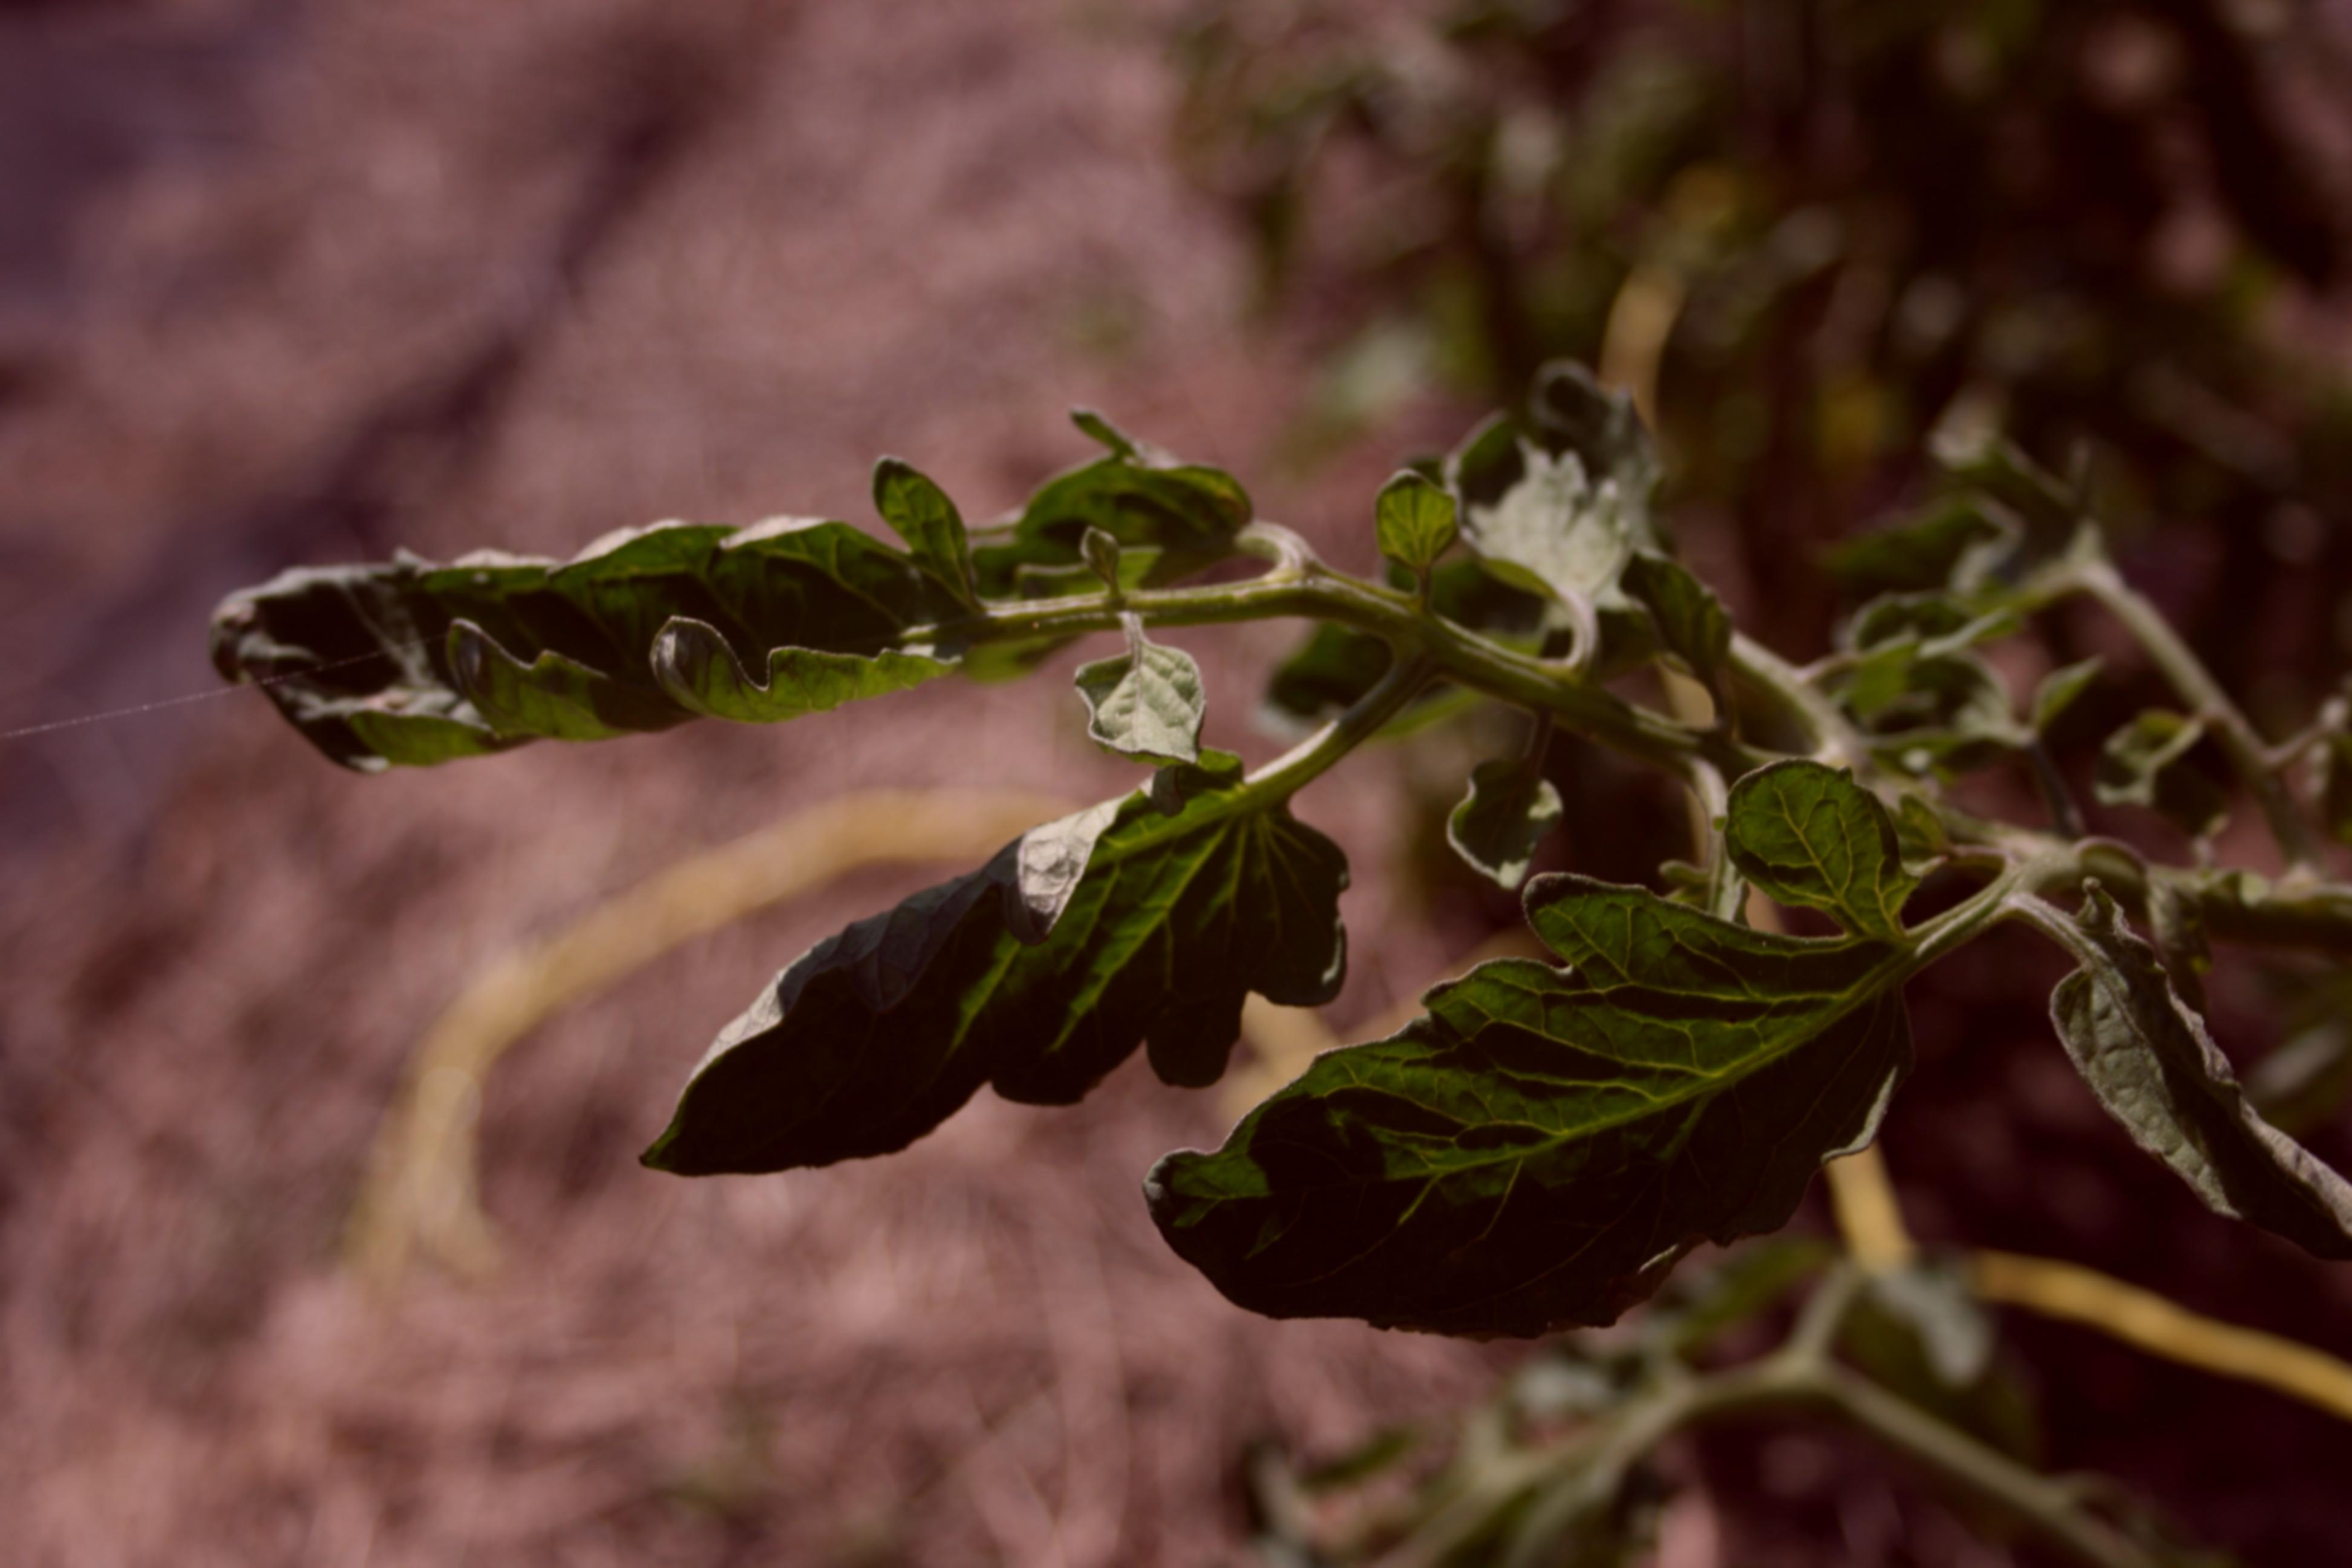Tomato leaf: (1144, 847, 1974, 1363), (168, 436, 1095, 794), (646, 744, 1332, 1190)
